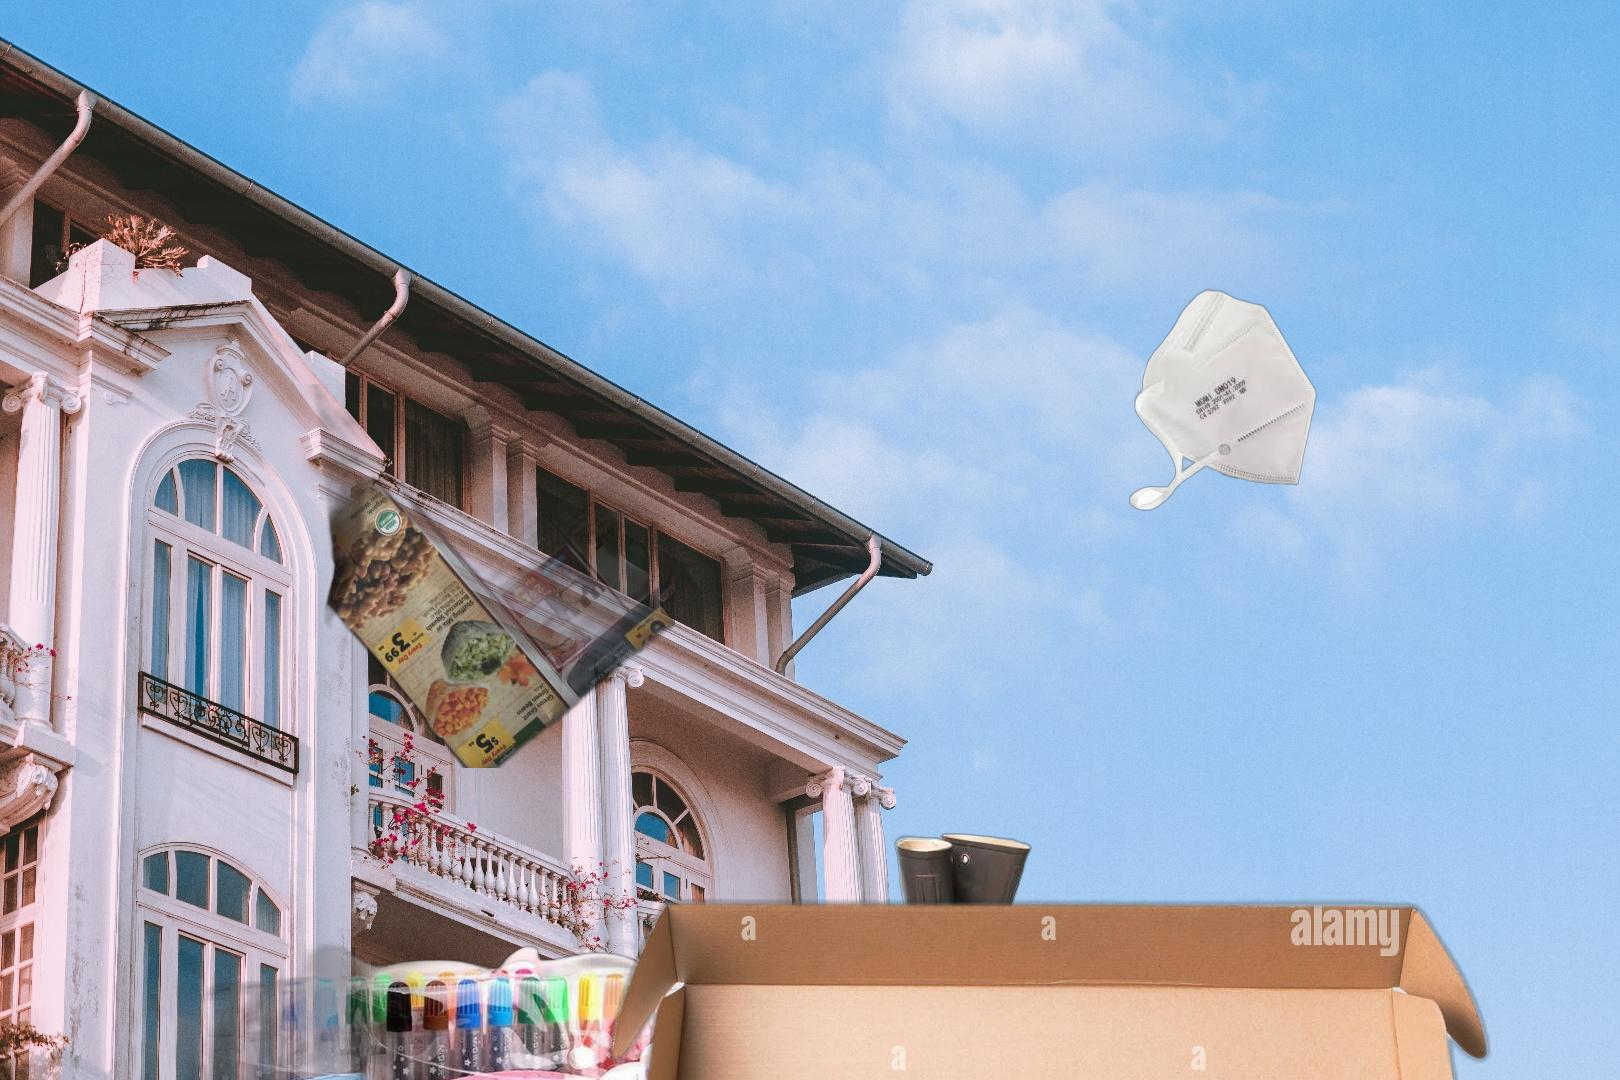paper: (265, 385, 675, 768)
penholder: (157, 935, 746, 1080)
shoes: (892, 830, 1051, 1080)
trash: (1127, 286, 1319, 513)
trashbox-cardboard: (598, 888, 1502, 1080)
